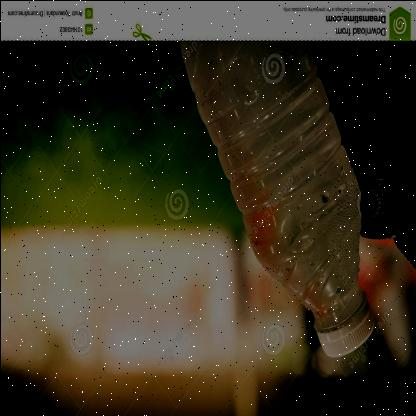Plastic Bottle: (180, 40, 374, 356)
